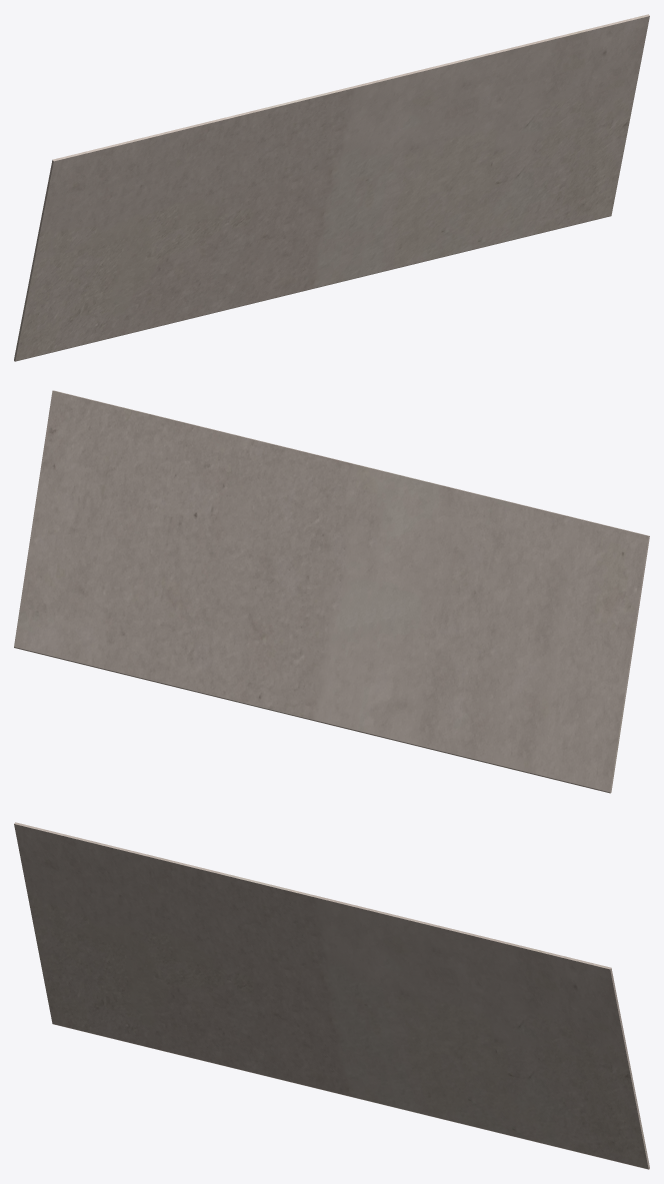
The model's file is MeshBox_8_FlapOuter_2_2.obj.
3 renders of one model, top to bottom at view 1: azimuth 30°, elevation 25°; view 2: azimuth 150°, elevation 25°; view 3: azimuth 330°, elevation 25°, orthographic.
Parts seen in each view (by area): view 1: Box_8_FlapOuter_2; view 2: Box_8_FlapOuter_2; view 3: Box_8_FlapOuter_2.
Boxes of the visible parts, x1=… form: Box_8_FlapOuter_2: x1=14, y1=14, x2=649, y2=361; Box_8_FlapOuter_2: x1=14, y1=390, x2=649, y2=793; Box_8_FlapOuter_2: x1=14, y1=822, x2=649, y2=1169.
Size of the model in its own units: 0.3442 by 0.1267 by 0.0398.
1 material, 1 textured.
